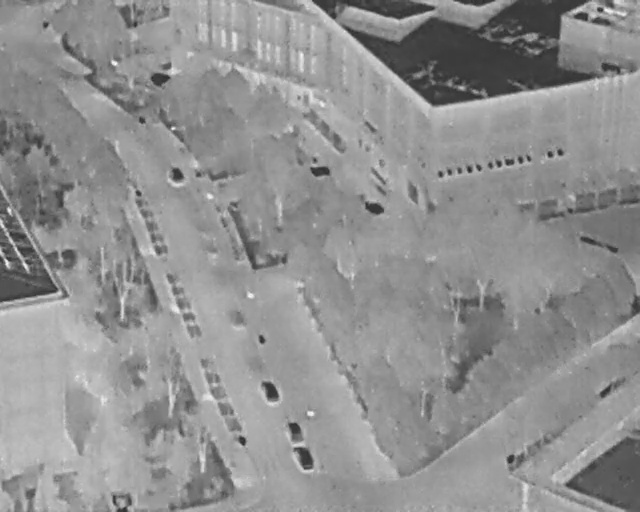Car: (293, 443, 315, 472), (284, 419, 303, 445), (260, 379, 279, 403), (168, 164, 185, 184)
